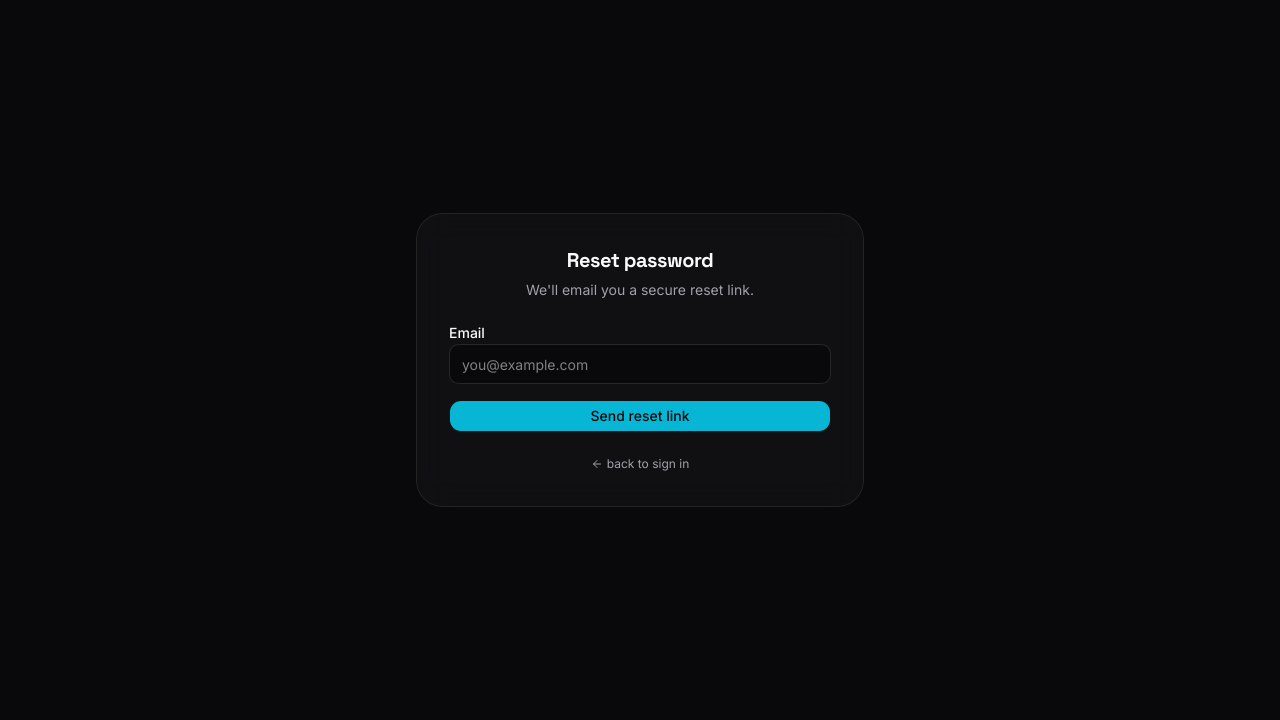
Forgot Password Page › shows the confirmation dialog after a successful request
Type "contract.rahat@gmail.com" into the field labelled "Email".
click(640, 364); type("contract.rahat@gmail.com")  # box [449,344,831,384]
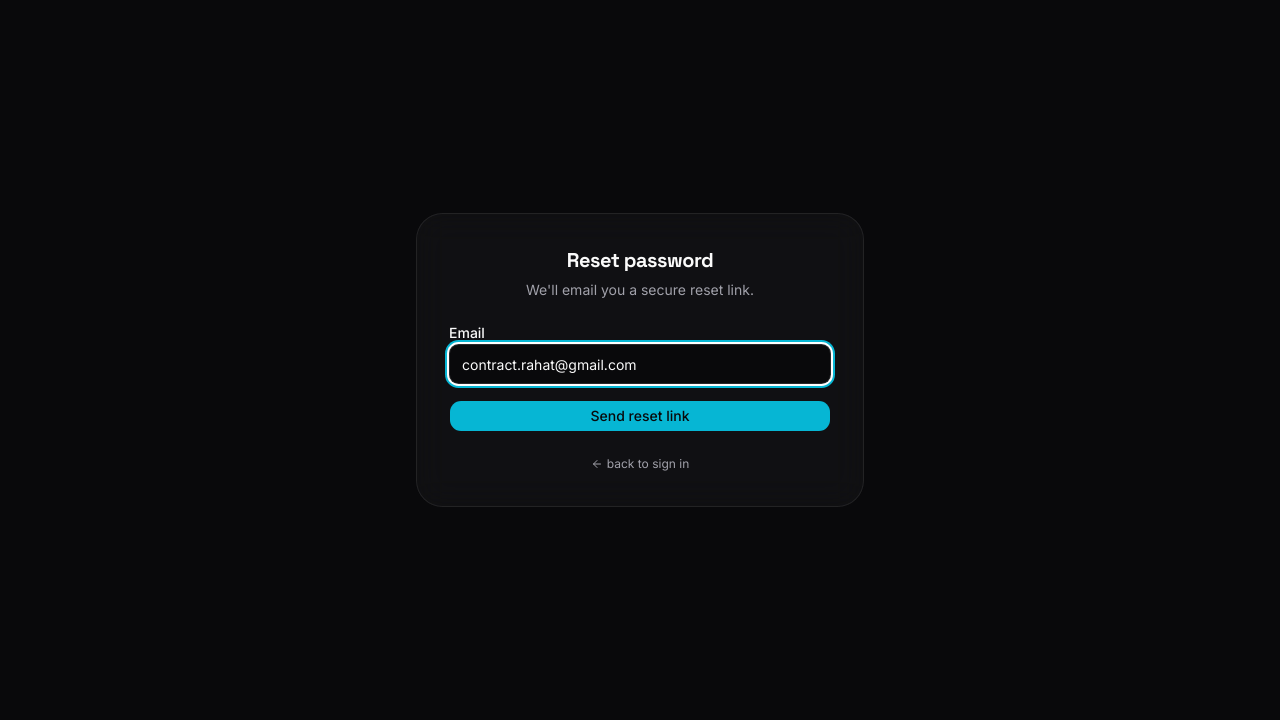
Click the button "Send reset link".
click(640, 416)  # box [449,400,831,432]
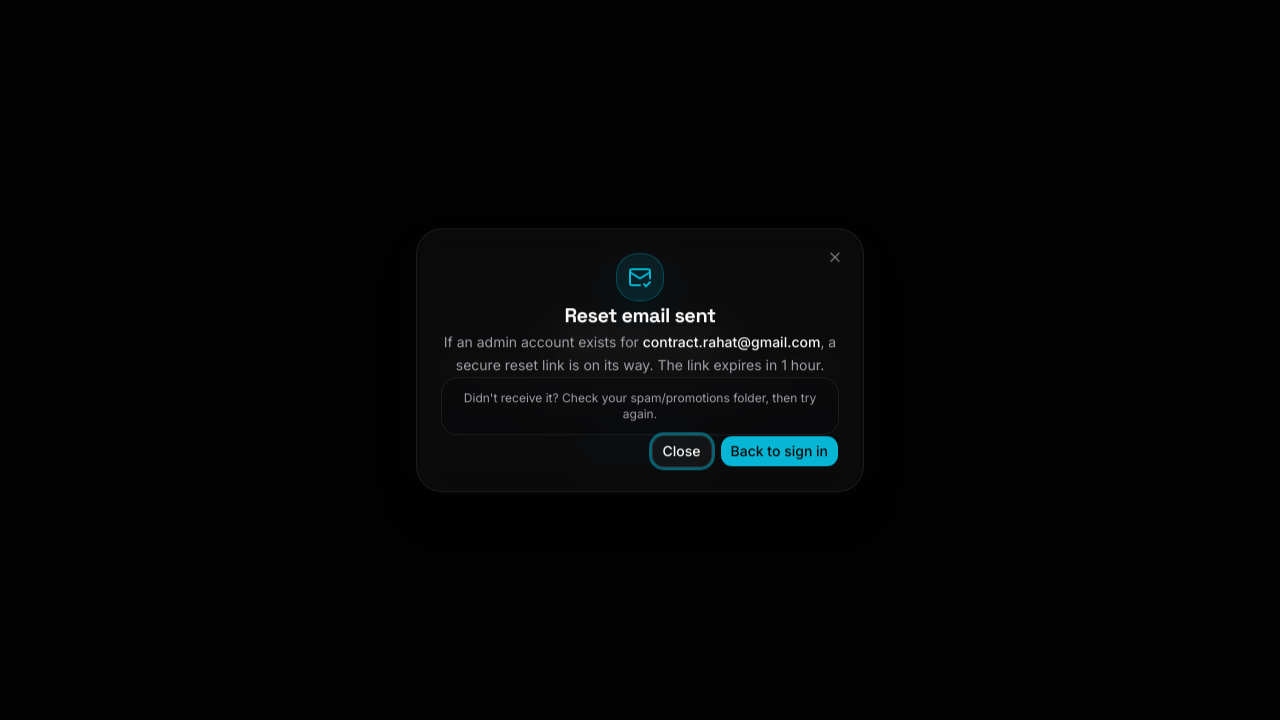
Now the heading "Reset email sent" is shown, box [564,302,716,328]
Now the text "contract.rahat@gmail.com" is shown, box [643,333,820,350]
Now the text "expires in 1 hour" is shown, box [456,333,836,373]
